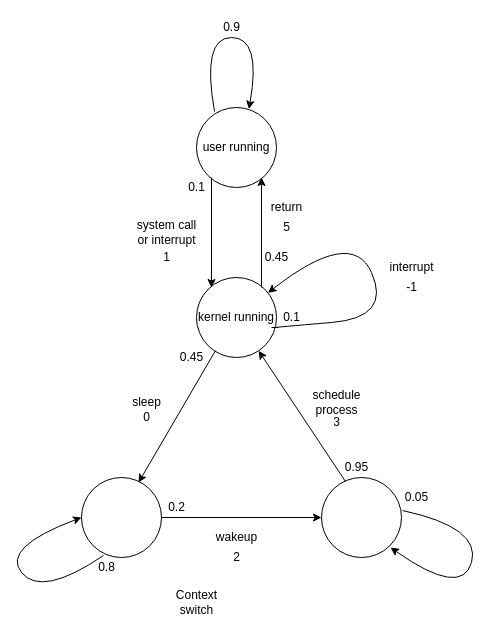
The diagram is 491 pixels wide and 634 high, and some of its shapes have lost their labels. The box of each missing label's shape, as (x1, y1, x2, y2) in pixels:
asleep: (80, 476, 162, 558)
ready to run: (320, 476, 402, 558)
